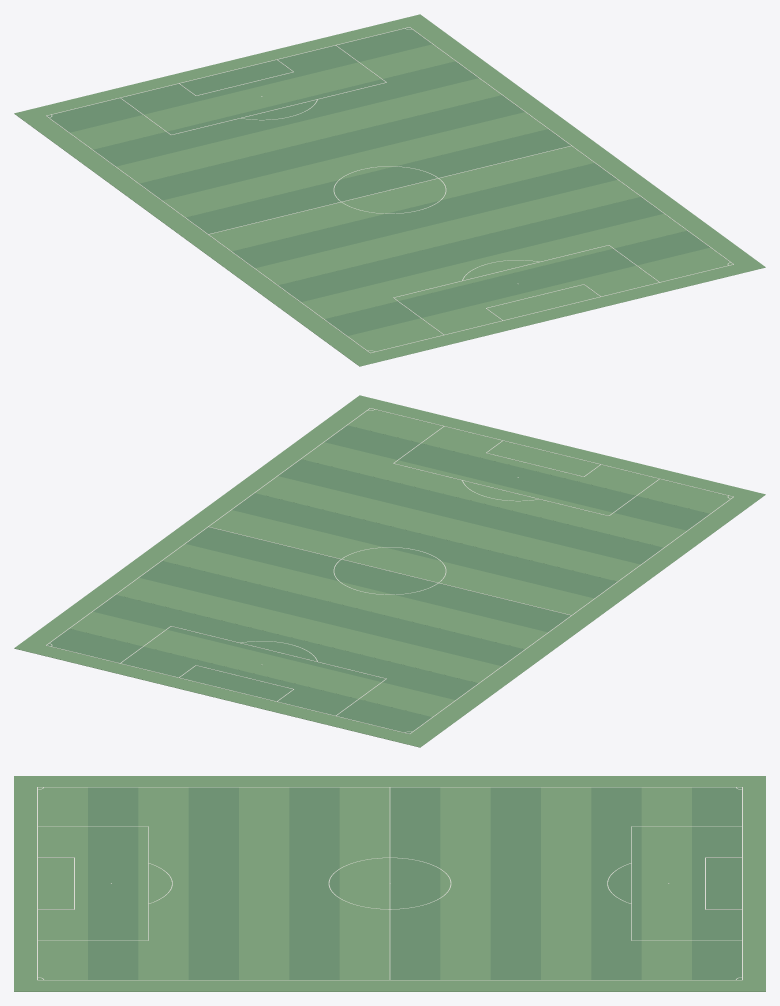
Rendered from full-marked-pitch-6ecdec76.glb.
The picture shows the model from 3 angles, top to bottom: view 1: azimuth 30°, elevation 25°; view 2: azimuth 150°, elevation 25°; view 3: azimuth 270°, elevation 25°; orthographic projection. The views are drawn at different scales.
Visible parts, largest first — view 1: full-marked-pitch; view 2: full-marked-pitch; view 3: full-marked-pitch.
Boxes of the visible parts, x1,y1,x2,y2 form: full-marked-pitch: [14, 14, 765, 366]; full-marked-pitch: [14, 395, 765, 747]; full-marked-pitch: [14, 776, 765, 991].
Size of the model in its own units: 76 by 0.092 by 112.
